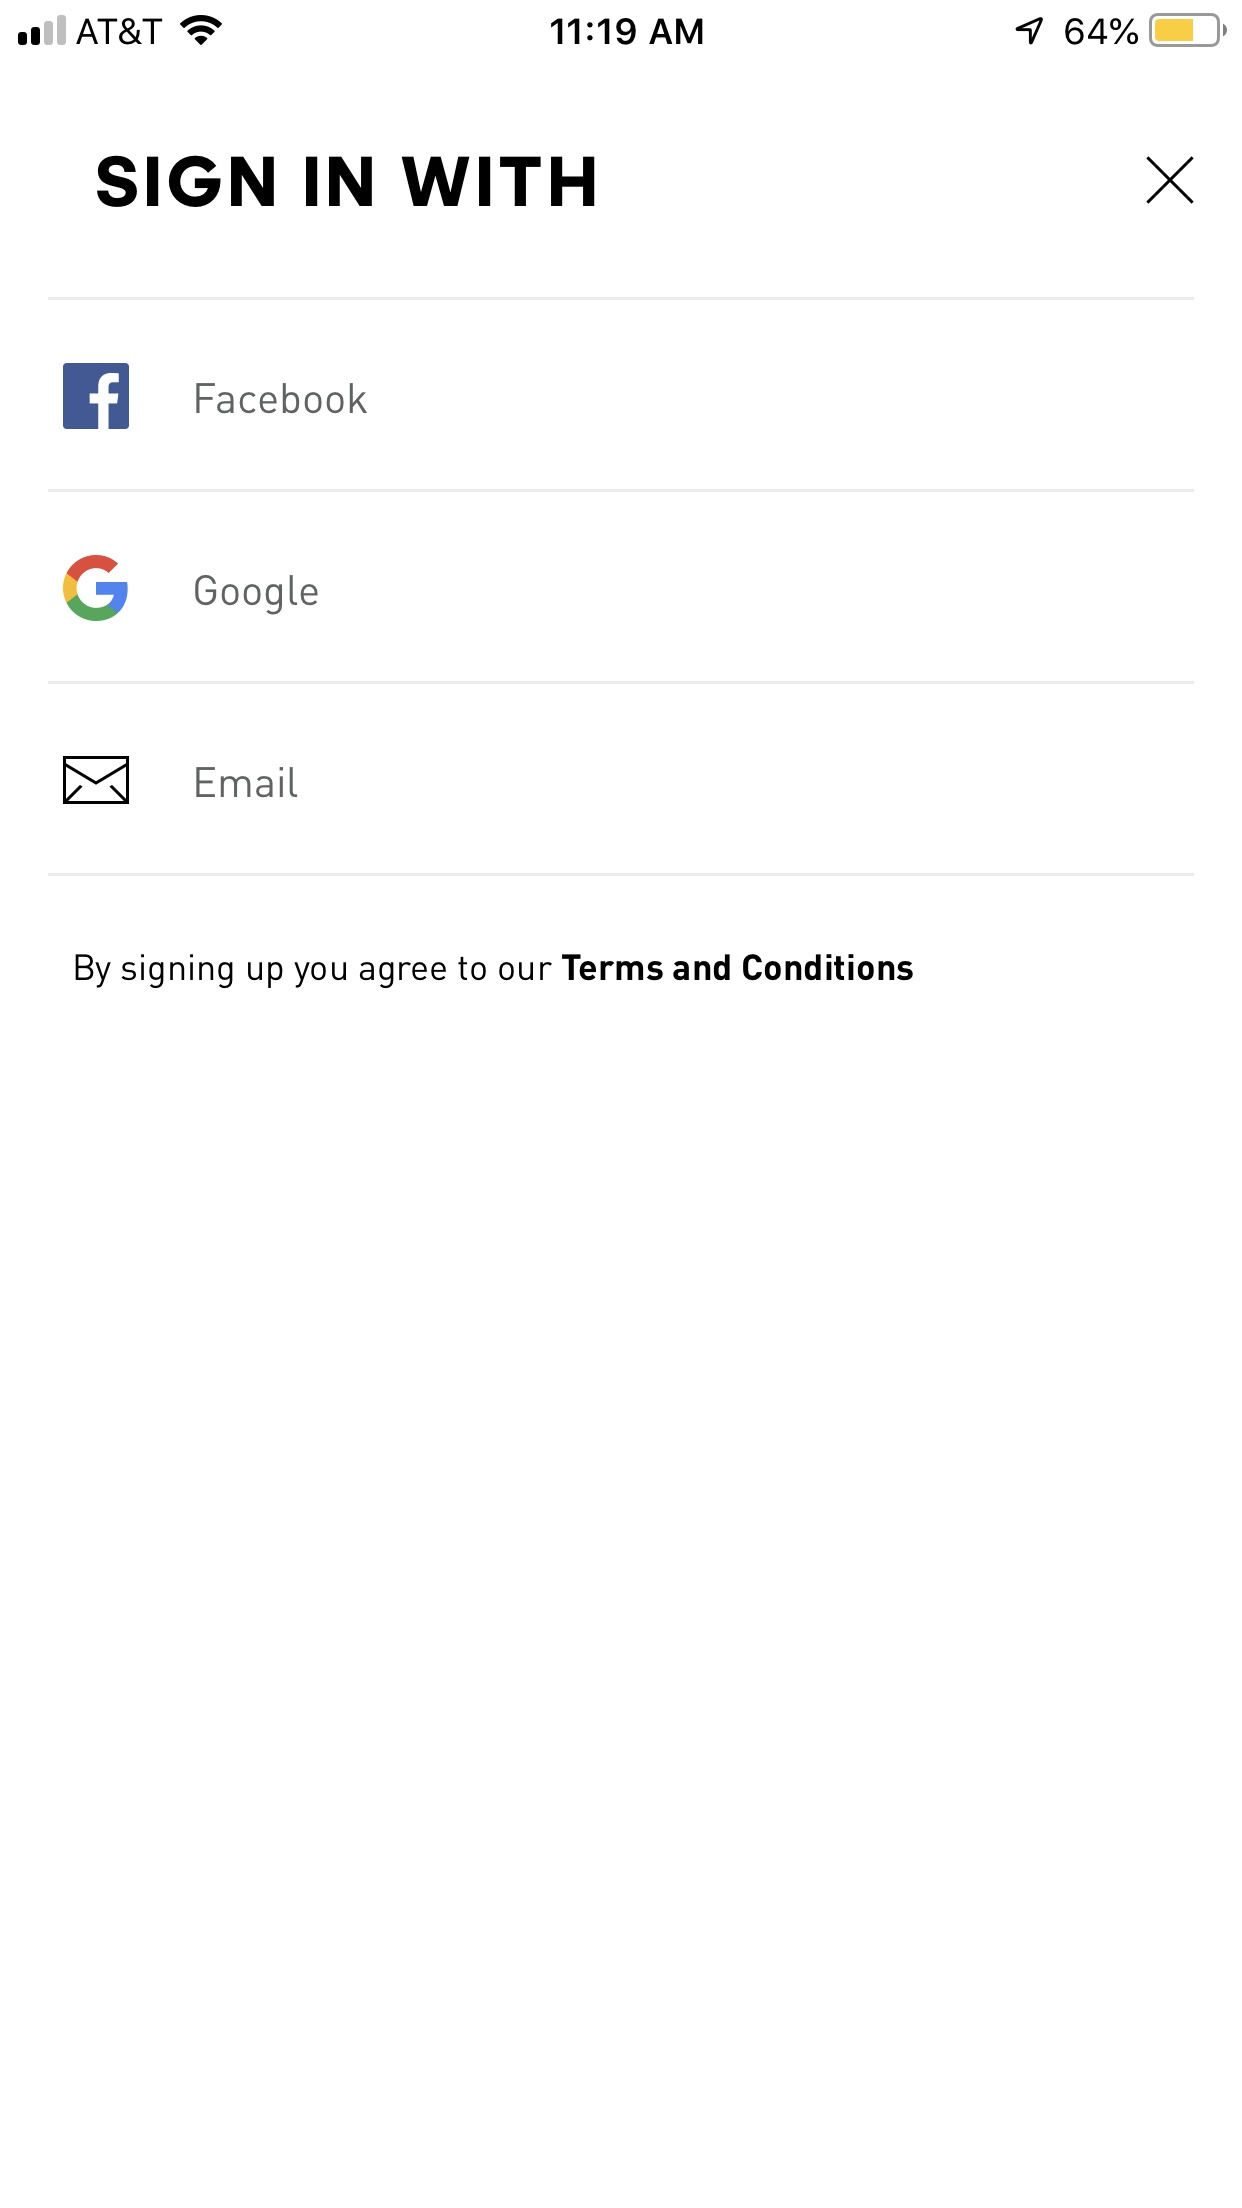Icon: (64, 555, 130, 623), (64, 362, 130, 431), (64, 757, 130, 805), (1146, 156, 1195, 206)
Text: (74, 952, 914, 989), (97, 156, 596, 209), (196, 384, 369, 416), (196, 575, 320, 616), (196, 766, 299, 799)
UpperTaskBar: (2, 2, 1242, 49)
